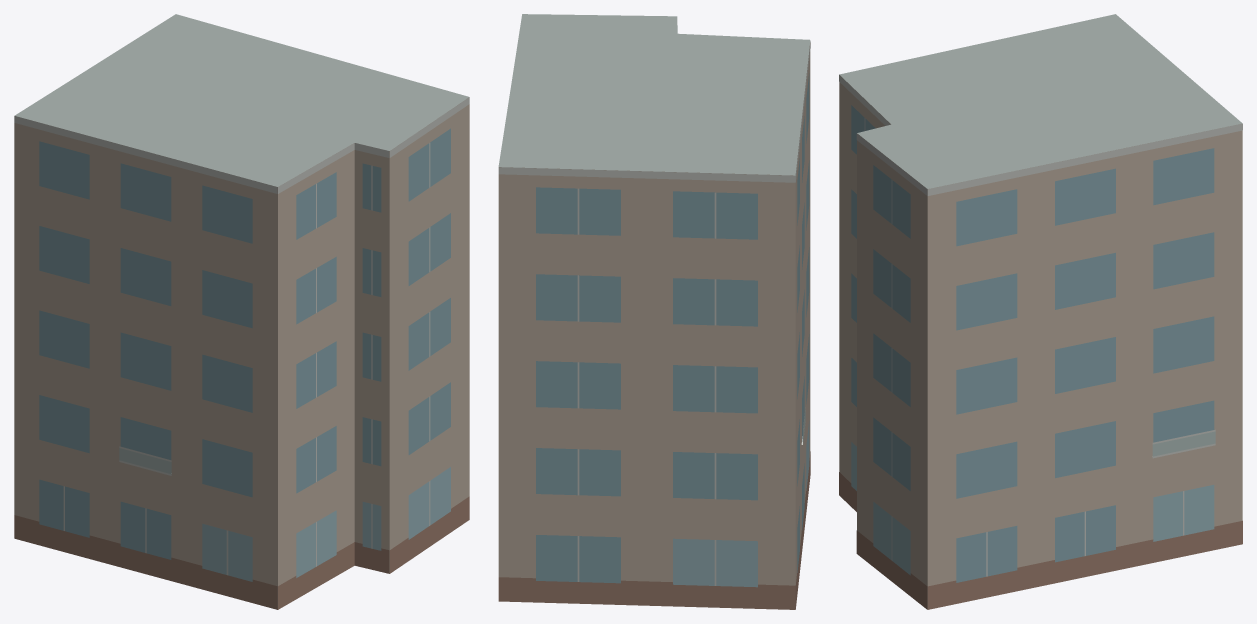
Rendered from survey-upis-32732701.glb.
The picture shows the model from 3 angles, left to right: view 1: azimuth 30°, elevation 25°; view 2: azimuth 150°, elevation 25°; view 3: azimuth 270°, elevation 25°; orthographic projection. The views are drawn at different scales.
Visible parts, largest first — view 1: survey-upis-32732701.tmp; view 2: survey-upis-32732701.tmp; view 3: survey-upis-32732701.tmp.
Boxes of the visible parts, box(x1,y1,x2,y2) form: survey-upis-32732701.tmp: box(14, 14, 469, 609); survey-upis-32732701.tmp: box(498, 14, 810, 609); survey-upis-32732701.tmp: box(839, 14, 1242, 609).
Size of the model in its own units: 13.04 by 14.6 by 12.7.
